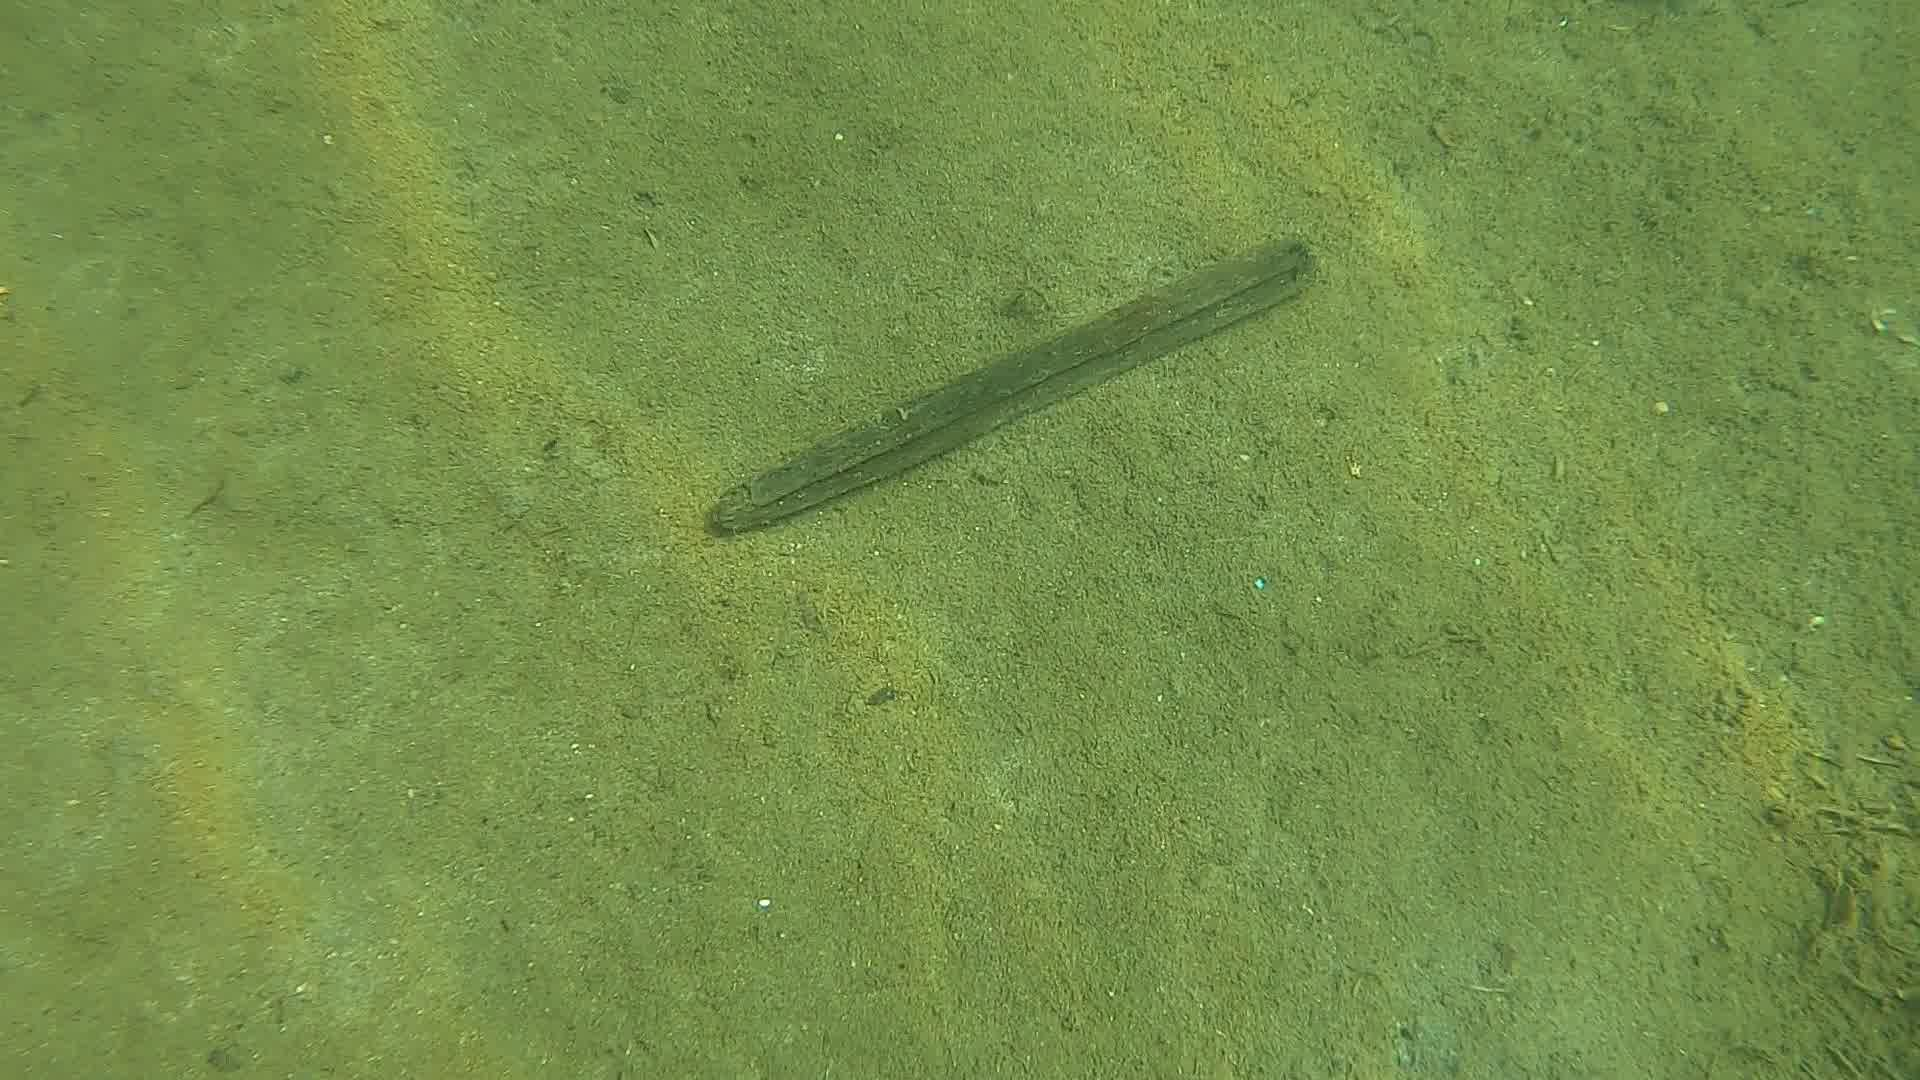wood: (702, 236, 1320, 535)
